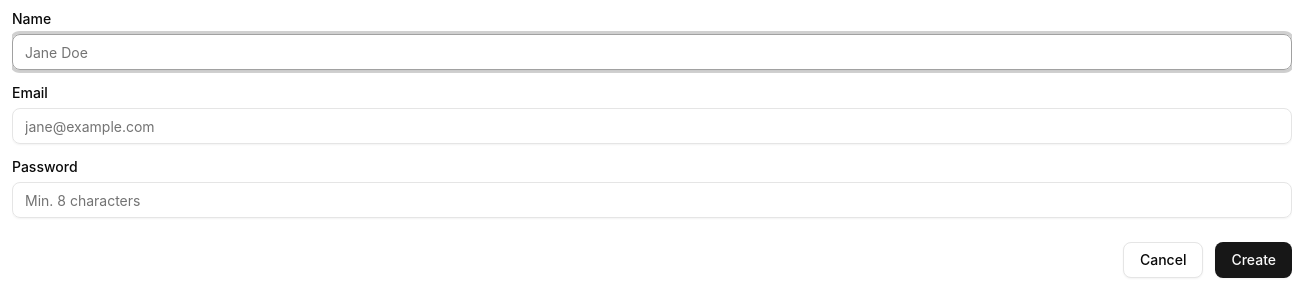
Test: UserForm › submission › shows 'Creating…' on the submit button while the request is in flight
The width and height of the screenshot is (1304, 295).
Type "New User" into the field labelled "Name". click: [652, 52]
box: [12, 34, 1292, 70]
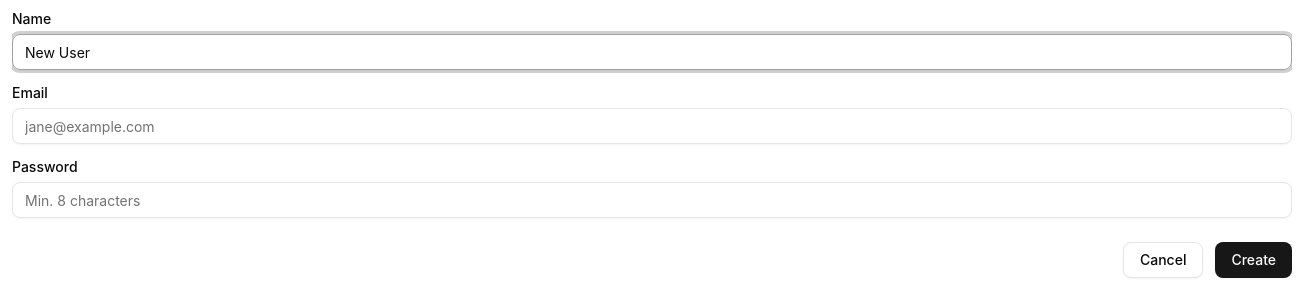
Type "new@example.com" into the field labelled "Email". click: [652, 126]
box: [12, 108, 1292, 144]
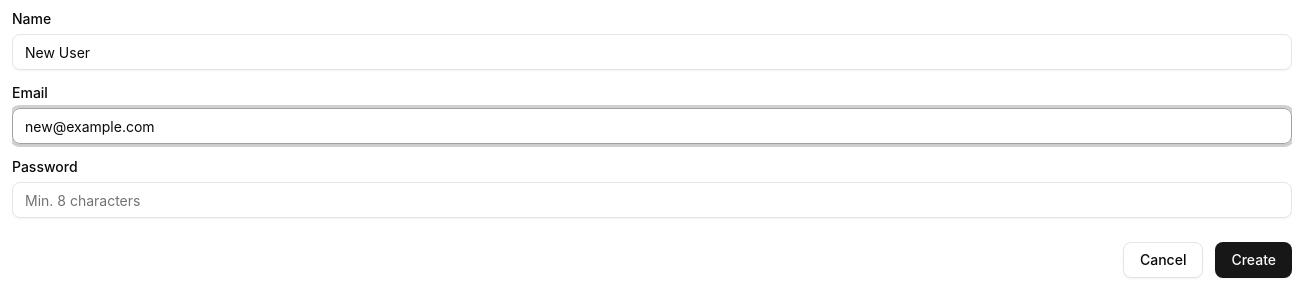
Type "password123" into the password field labelled "Password". click: [652, 200]
box: [12, 182, 1292, 218]
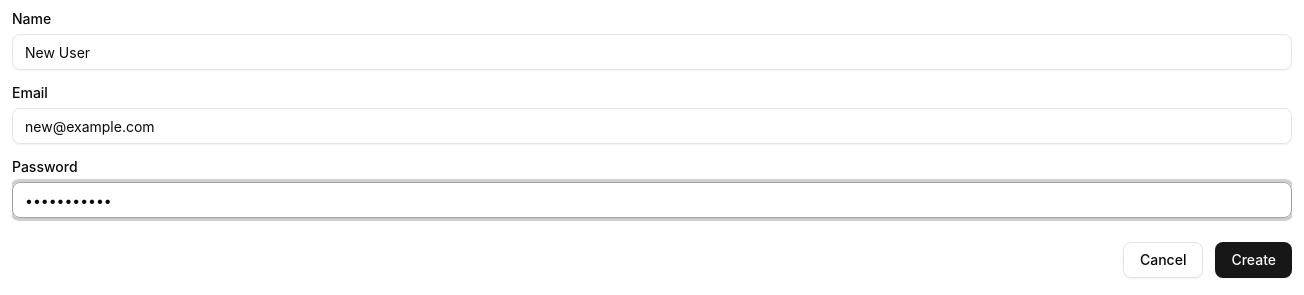
Click the button "Create". click: [1254, 260]
box: [1215, 242, 1292, 278]
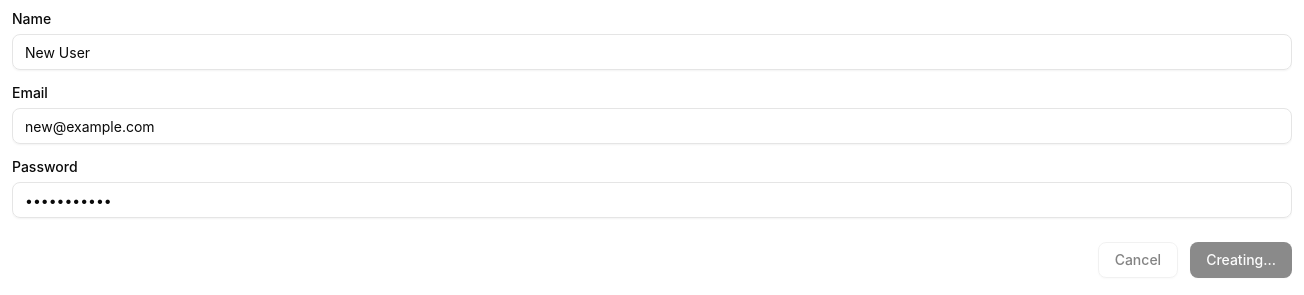
expect the button "Creating…" is shown: met, box [1190, 242, 1292, 278]
